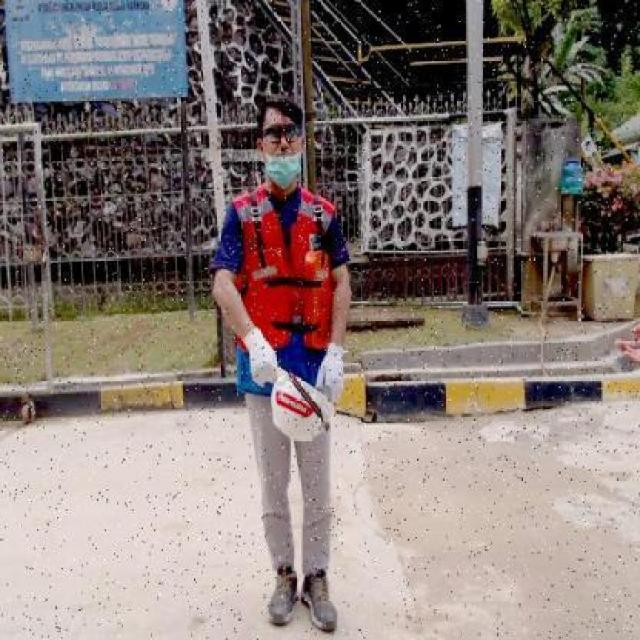Boots: (300, 569, 340, 634), (267, 562, 299, 626)
Gloves: (243, 327, 280, 388), (313, 342, 345, 403)
Helmet: (271, 364, 334, 448)
Mask: (266, 154, 302, 191)
Protective Glasses: (262, 123, 300, 142)
Vest: (244, 249, 330, 348)
